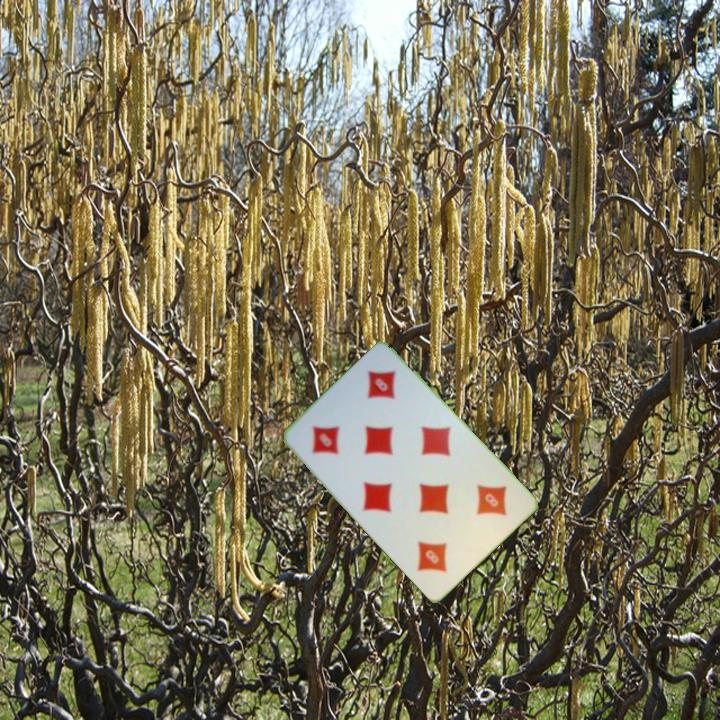d_8.png: (291, 393, 377, 479), (441, 463, 527, 548)
